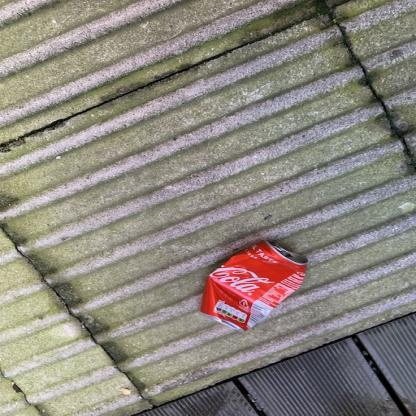trash: (200, 241, 307, 329)
